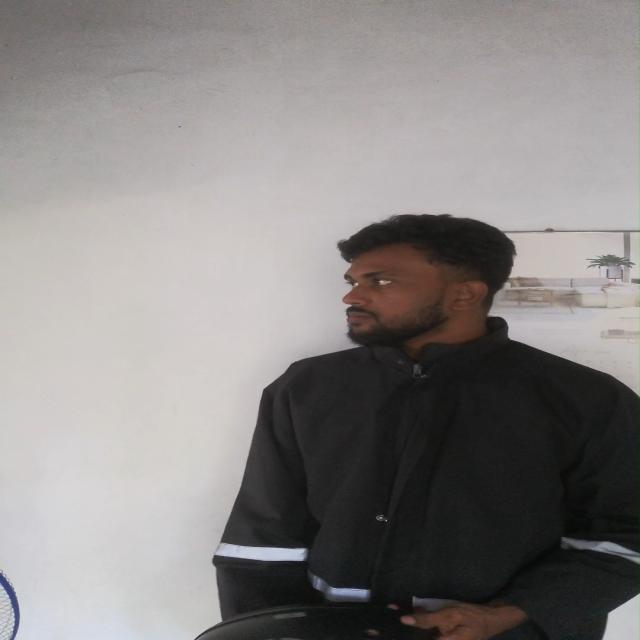Jacket_Wearer: (226, 330, 640, 640)
Person: (201, 218, 640, 638)
